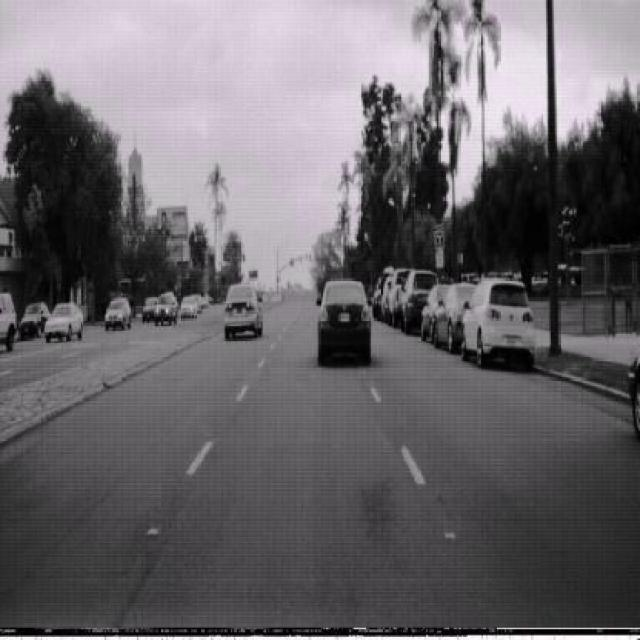speedLimit35: (432, 223, 445, 251)
